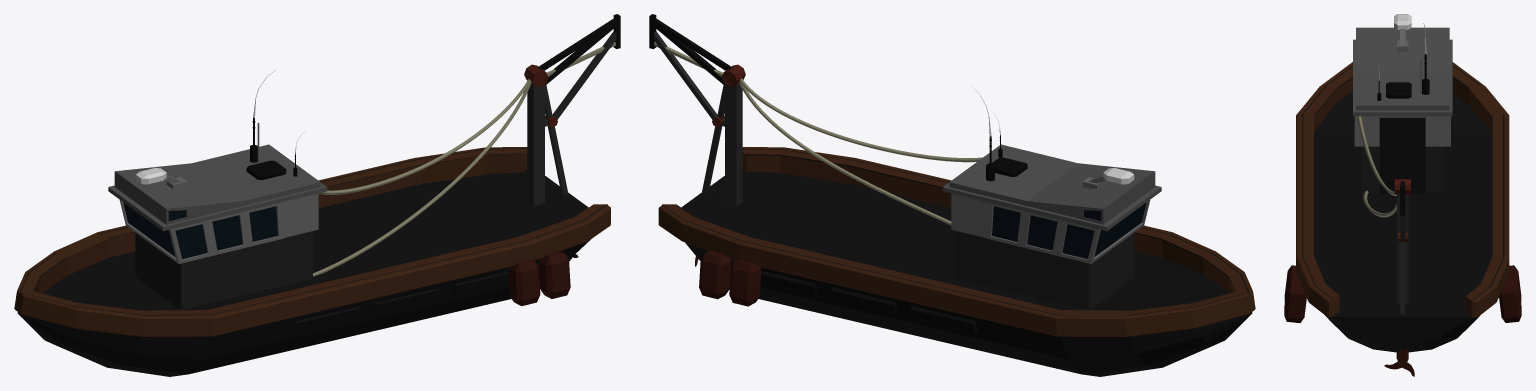
Rendered from fishing_boat_low_poly_style.obj.
3 renders of one model, left to right at view 1: azimuth 30°, elevation 25°; view 2: azimuth 150°, elevation 25°; view 3: azimuth 270°, elevation 25°, orthographic. The views are drawn at different scales.
Parts seen in each view (by area): view 1: Ship001_Material001_0, Ship001_Material002_0, Bouda_Material015_0, Bouda_Material016_0, Hook_Material008_0, Bouda_Material005_0, Bouda_Material003_0, Hook_Material011_0, Ship010_Material014_0, Ship009_Material014_0, Ship008_Material007_0, Ship007_Material007_0 (+1 smaller); view 2: Ship001_Material001_0, Ship001_Material002_0, Bouda_Material015_0, Bouda_Material016_0, Hook_Material008_0, Bouda_Material005_0, Bouda_Material003_0, Hook_Material011_0, Ship012_Material014_0, Ship011_Material014_0, Ship007_Material007_0, Ship008_Material007_0 (+1 smaller); view 3: Ship001_Material001_0, Ship001_Material002_0, Bouda_Material015_0, Bouda_Material001_0, Bouda_Material016_0, Bouda_Material003_0, Hook_Material008_0, Ship012_Material014_0, Ship010_Material014_0, Ship013_Material006_0, Ship007_Material007_0, Hook_Material010_0 (+2 smaller).
Part boxes in pixels (bbox=[...]): Ship001_Material001_0: bbox=[17, 148, 606, 376]; Ship001_Material002_0: bbox=[14, 147, 610, 336]; Bouda_Material015_0: bbox=[108, 144, 327, 231]; Bouda_Material016_0: bbox=[135, 231, 312, 309]; Hook_Material008_0: bbox=[527, 31, 616, 206]; Bouda_Material005_0: bbox=[123, 202, 277, 259]; Bouda_Material003_0: bbox=[119, 193, 318, 263]; Hook_Material011_0: bbox=[537, 14, 620, 85]; Ship010_Material014_0: bbox=[538, 250, 570, 298]; Ship009_Material014_0: bbox=[508, 259, 540, 306]; Ship008_Material007_0: bbox=[313, 82, 531, 276]; Ship007_Material007_0: bbox=[319, 79, 530, 194]; Ship001_Material001_0: bbox=[662, 149, 1252, 376]; Ship001_Material002_0: bbox=[658, 147, 1255, 336]; Bouda_Material015_0: bbox=[942, 144, 1161, 231]; Bouda_Material016_0: bbox=[957, 231, 1134, 309]; Hook_Material008_0: bbox=[653, 31, 742, 206]; Bouda_Material005_0: bbox=[992, 202, 1146, 259]; Bouda_Material003_0: bbox=[951, 193, 1150, 263]; Hook_Material011_0: bbox=[649, 14, 732, 85]; Ship012_Material014_0: bbox=[699, 250, 731, 299]; Ship011_Material014_0: bbox=[729, 259, 761, 306]; Ship007_Material007_0: bbox=[739, 78, 982, 162]; Ship008_Material007_0: bbox=[739, 81, 951, 225]; Ship001_Material001_0: bbox=[1302, 65, 1504, 352]; Ship001_Material002_0: bbox=[1296, 62, 1509, 317]; Bouda_Material015_0: bbox=[1353, 27, 1452, 116]; Bouda_Material001_0: bbox=[1379, 117, 1425, 193]; Bouda_Material016_0: bbox=[1361, 146, 1444, 192]; Bouda_Material003_0: bbox=[1354, 116, 1450, 146]; Hook_Material008_0: bbox=[1397, 194, 1408, 314]; Ship012_Material014_0: bbox=[1499, 278, 1521, 322]; Ship010_Material014_0: bbox=[1284, 278, 1306, 322]; Ship013_Material006_0: bbox=[1386, 82, 1411, 98]; Ship007_Material007_0: bbox=[1357, 116, 1396, 195]; Hook_Material010_0: bbox=[1394, 179, 1410, 241].
Size of the model in its own units: 8.13 by 3.34 by 3.06.
